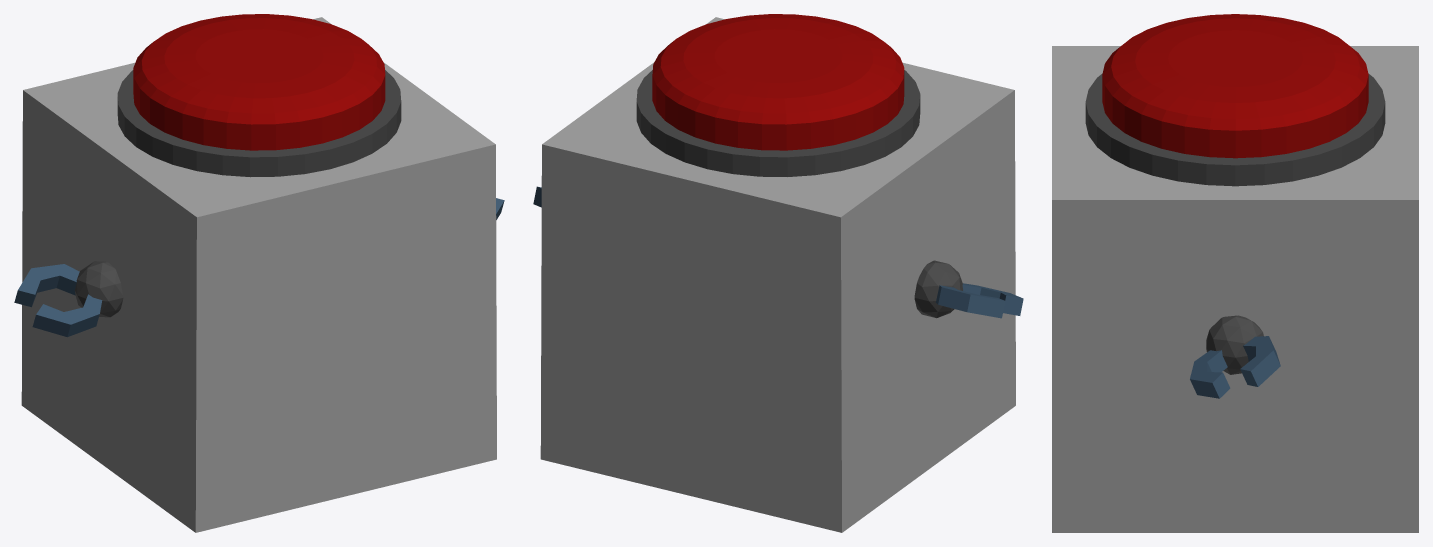
File: ButtonBot.fbx
3 renders of one model, left to right at view 1: azimuth 30°, elevation 25°; view 2: azimuth 150°, elevation 25°; view 3: azimuth 270°, elevation 25°, orthographic. The views are drawn at different scales.
Parts seen in each view (by area): view 1: Body, Button; view 2: Body, Button; view 3: Body, Button.
Part boxes in pixels (x1=…): Body: x1=14, y1=17, x2=504, y2=532; Button: x1=133, y1=14, x2=385, y2=150; Body: x1=533, y1=17, x2=1023, y2=532; Button: x1=652, y1=14, x2=904, y2=150; Body: x1=1052, y1=46, x2=1418, y2=532; Button: x1=1102, y1=14, x2=1368, y2=158.
Bounding box in the file's own units: 311 × 200 × 239.
